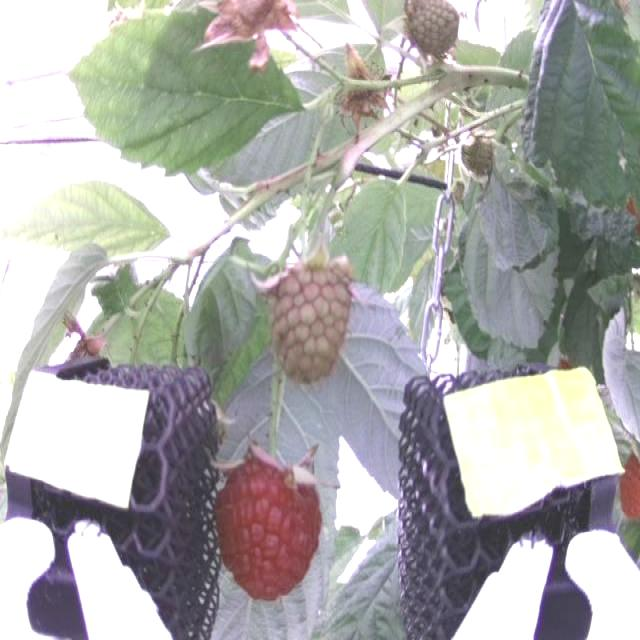Riped berries: (216, 450, 330, 602)
